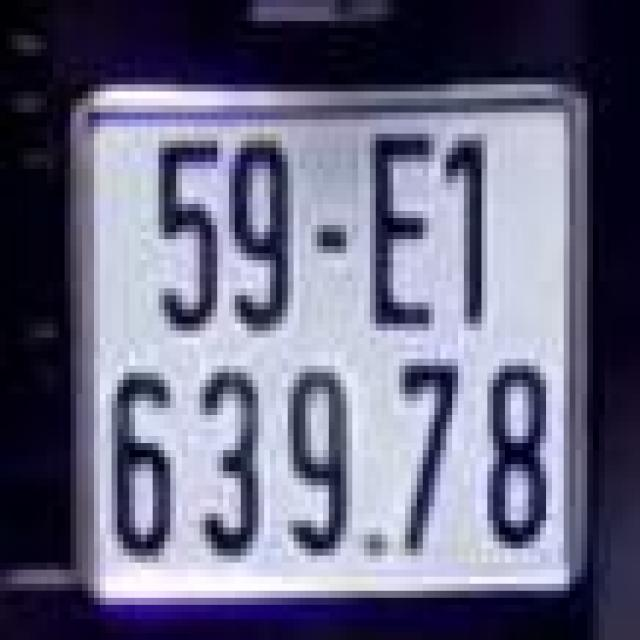1: (443, 130, 508, 327)
3: (188, 348, 270, 566)
5: (141, 120, 223, 344)
6: (103, 338, 179, 570)
7: (384, 348, 466, 566)
8: (476, 334, 558, 559)
9: (229, 120, 305, 338), (273, 358, 355, 548)
E: (349, 106, 444, 352)
